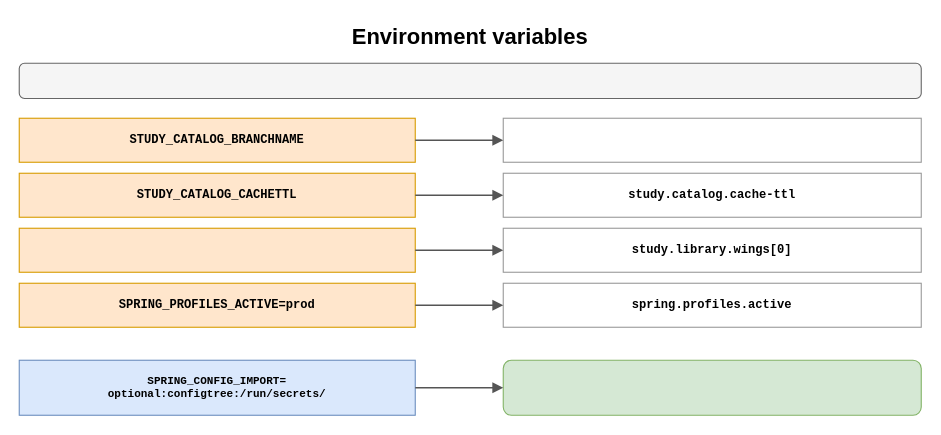
Image size: 941x435. Some labels were removed from this diagram. Each missing label, with the box of its shape:
Dots → underscores, dashes removed, uppercase: (18, 62, 921, 98)
each file name → property name file content → value (mounted secrets): (502, 359, 921, 415)
study.catalog.branch-name: (502, 117, 921, 162)
STUDY_LIBRARY_WINGS_0_: (18, 227, 415, 272)
